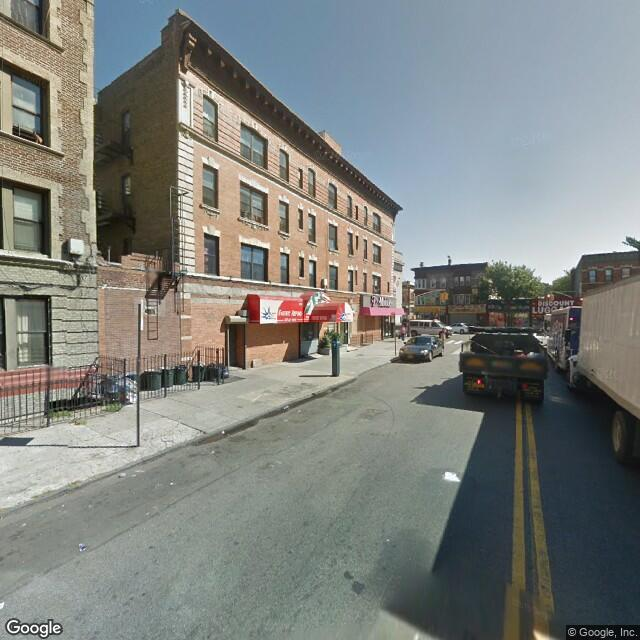litter: (68, 537, 85, 559), (213, 430, 233, 438)
